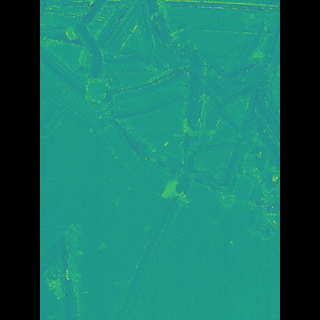Loch: (69, 0, 251, 233), (120, 188, 178, 320), (70, 220, 106, 320)
